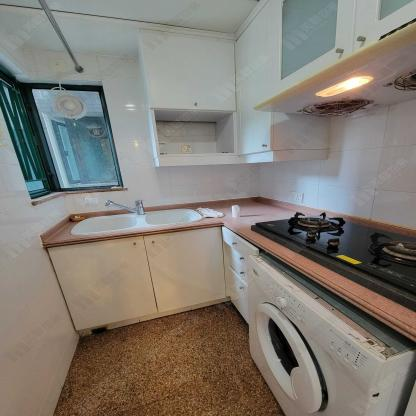Cupboard: (137, 0, 416, 168), (38, 223, 264, 340)
Exhaust Fan: (49, 91, 89, 123)
Exhaust Hood: (254, 24, 416, 121)
Faucet: (102, 198, 148, 216)
Sink: (70, 205, 212, 236)
Stove: (250, 210, 416, 301)
Washing Machine: (247, 252, 416, 416)
